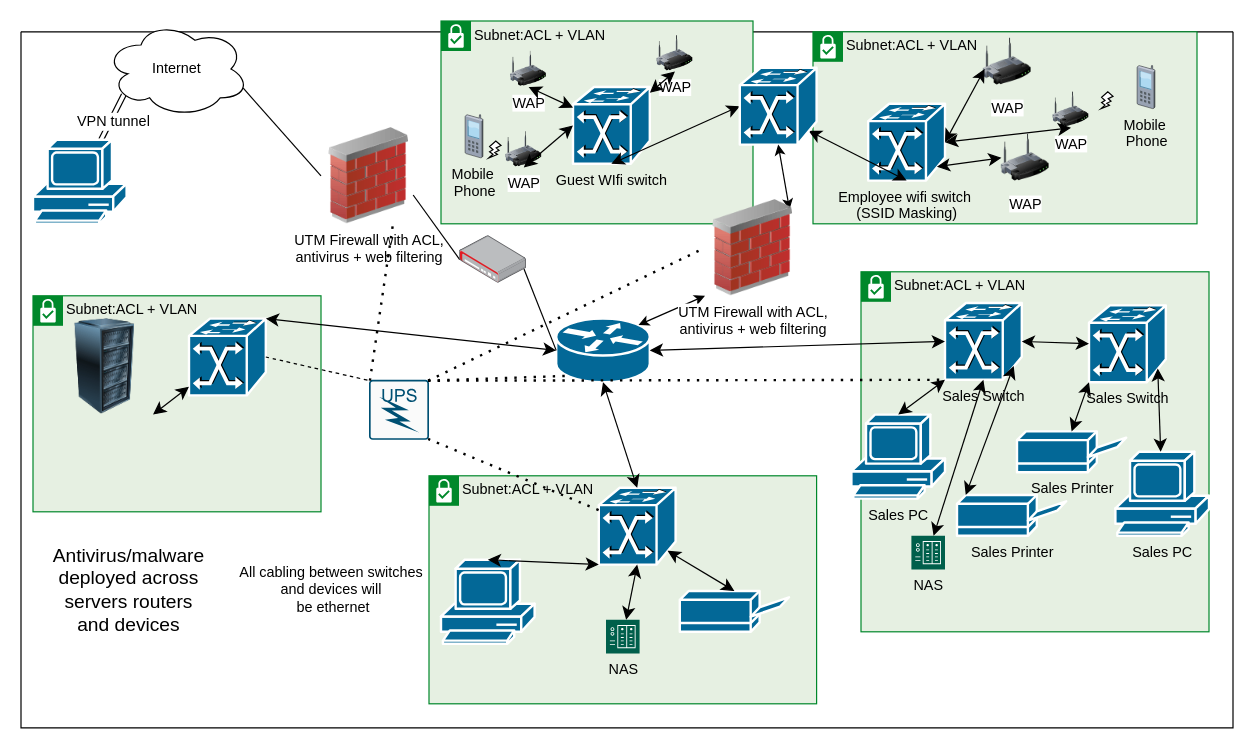
The diagram is 1254 pixels wide and 749 high, and some of its shapes have lost their labels. The box of each missing label's shape, as (x1, y1, x2, y2) in pixels:
Admin PC: (439, 558, 535, 644)
Admin Printer: (678, 589, 790, 632)
Admin Switch: (597, 486, 676, 565)
Backup UPS: (368, 379, 429, 440)
IDPS: (459, 235, 526, 283)
Router with VPN: (554, 317, 650, 383)
Server Switch: (187, 317, 266, 396)
Servers: (56, 318, 152, 414)
VPN Remote Connectivity: (31, 138, 127, 224)
Wifi switch: (738, 66, 817, 145)
